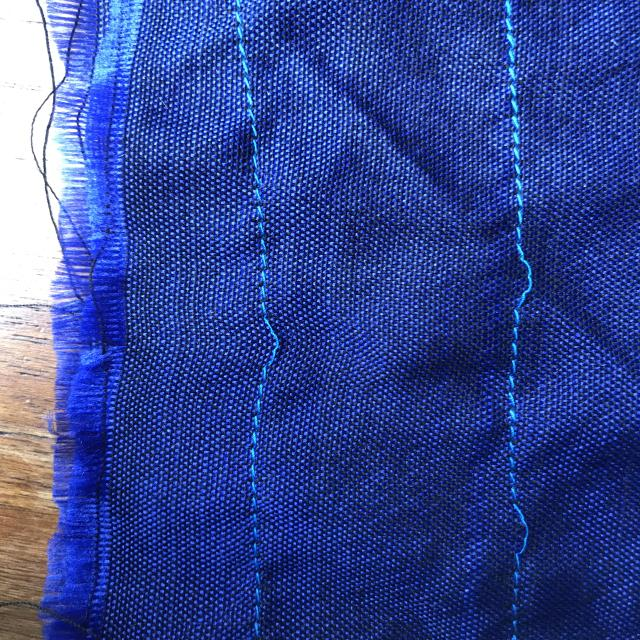good: (489, 58, 552, 168)
skip: (489, 479, 554, 572), (498, 231, 560, 324), (242, 294, 298, 385)
